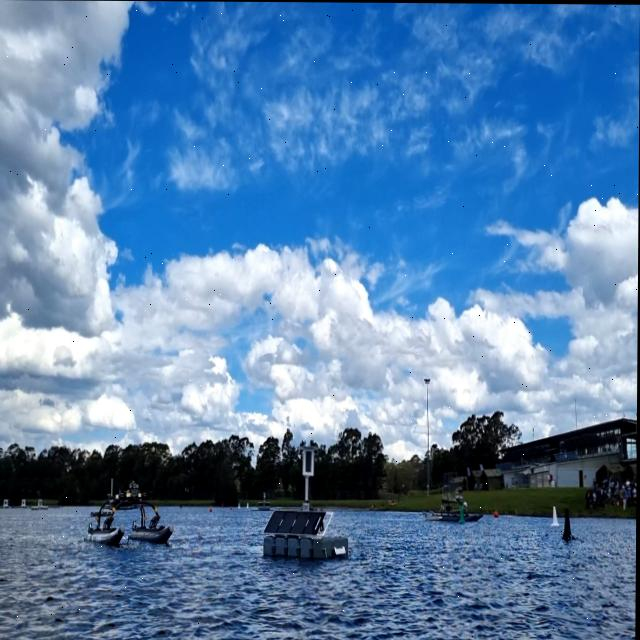led: (304, 448, 313, 474)
